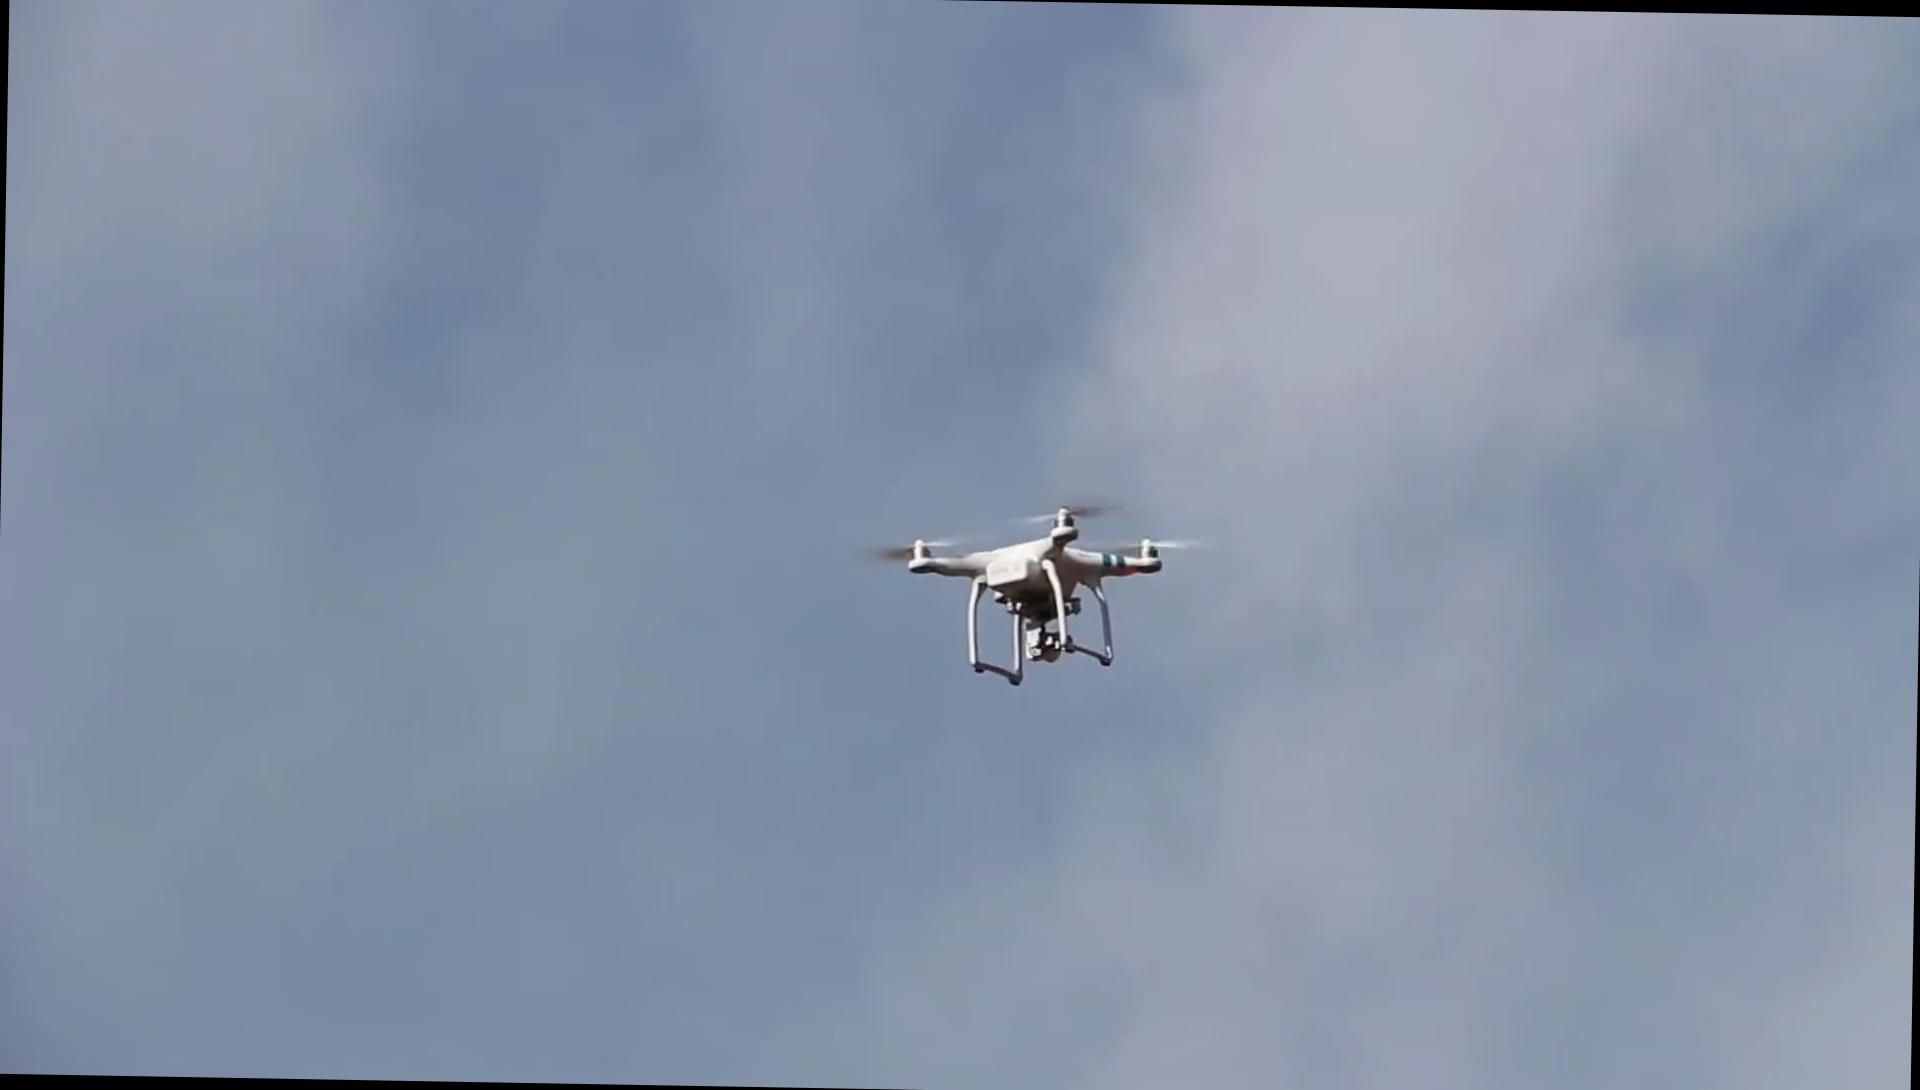drone: (895, 486, 1184, 688)
